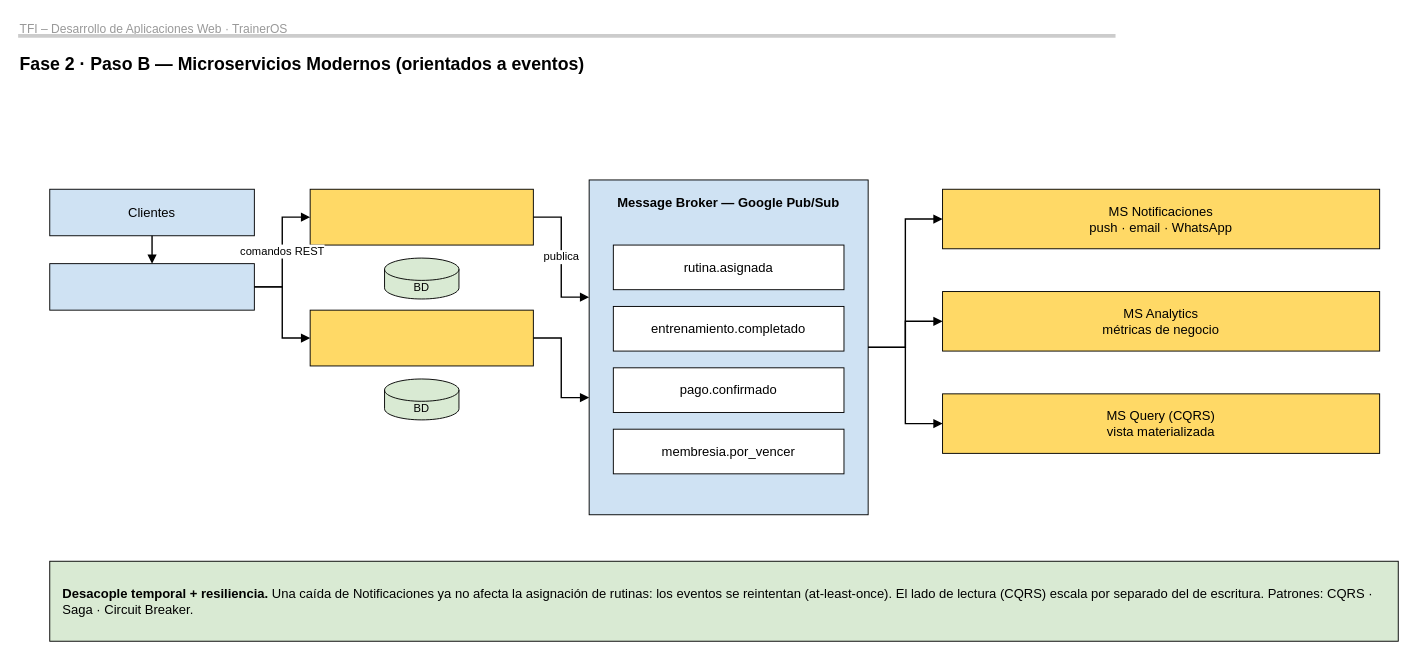
The diagram is 1415 pixels wide and 658 high, and some of its shapes have lost their labels. The centre of each missing label's shape, as x and y in pixels:
"API Gateway" belongs at pixel 151 286.
"MS Pagos publica" belongs at pixel 421 337.
"MS Rutinas publica" belongs at pixel 421 216.
